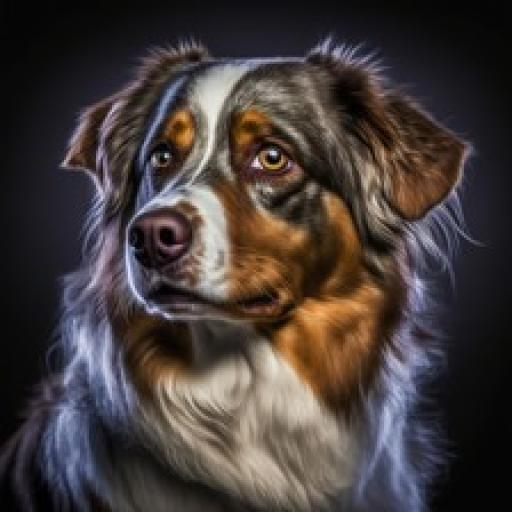dog: (0, 33, 479, 512)
